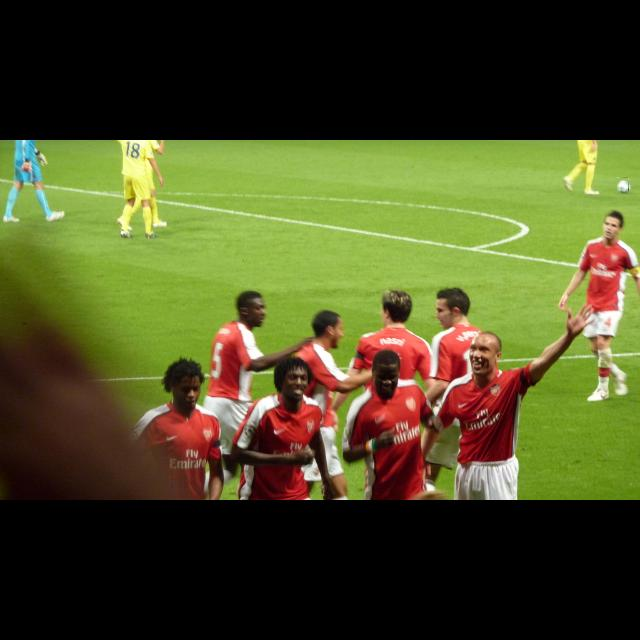Football: (617, 177, 629, 191)
